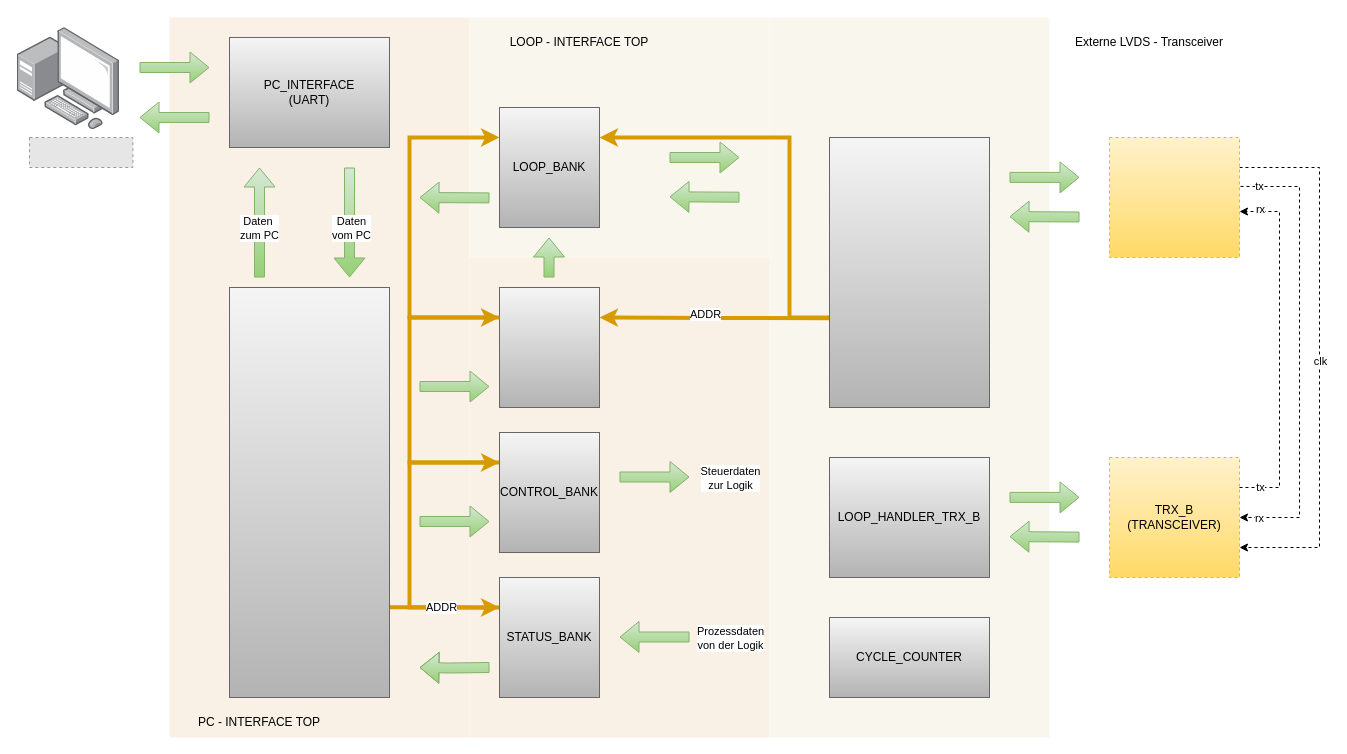
The diagram is 1347 pixels wide and 754 high, and some of its shapes have lost their labels. Grey dashed boxes stand in for pictures. Here are the shapes that lost their labels. From the top down, the centre of each, then its label:
pixel 1174 197: TRX_A (TRANSCEIVER)
pixel 909 272: LOOP_HANDLER_TRX_A
pixel 549 347: PATTERN_BANK
pixel 309 492: PC_INTERFACE_HANDLER
